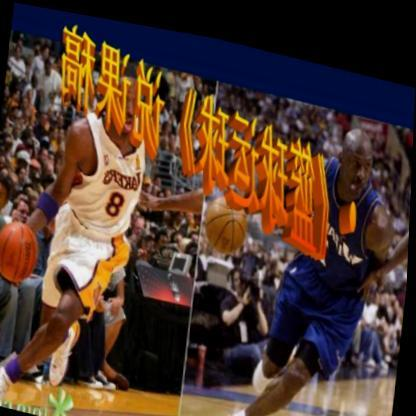basketball: (205, 183, 252, 250), (0, 215, 43, 285)
